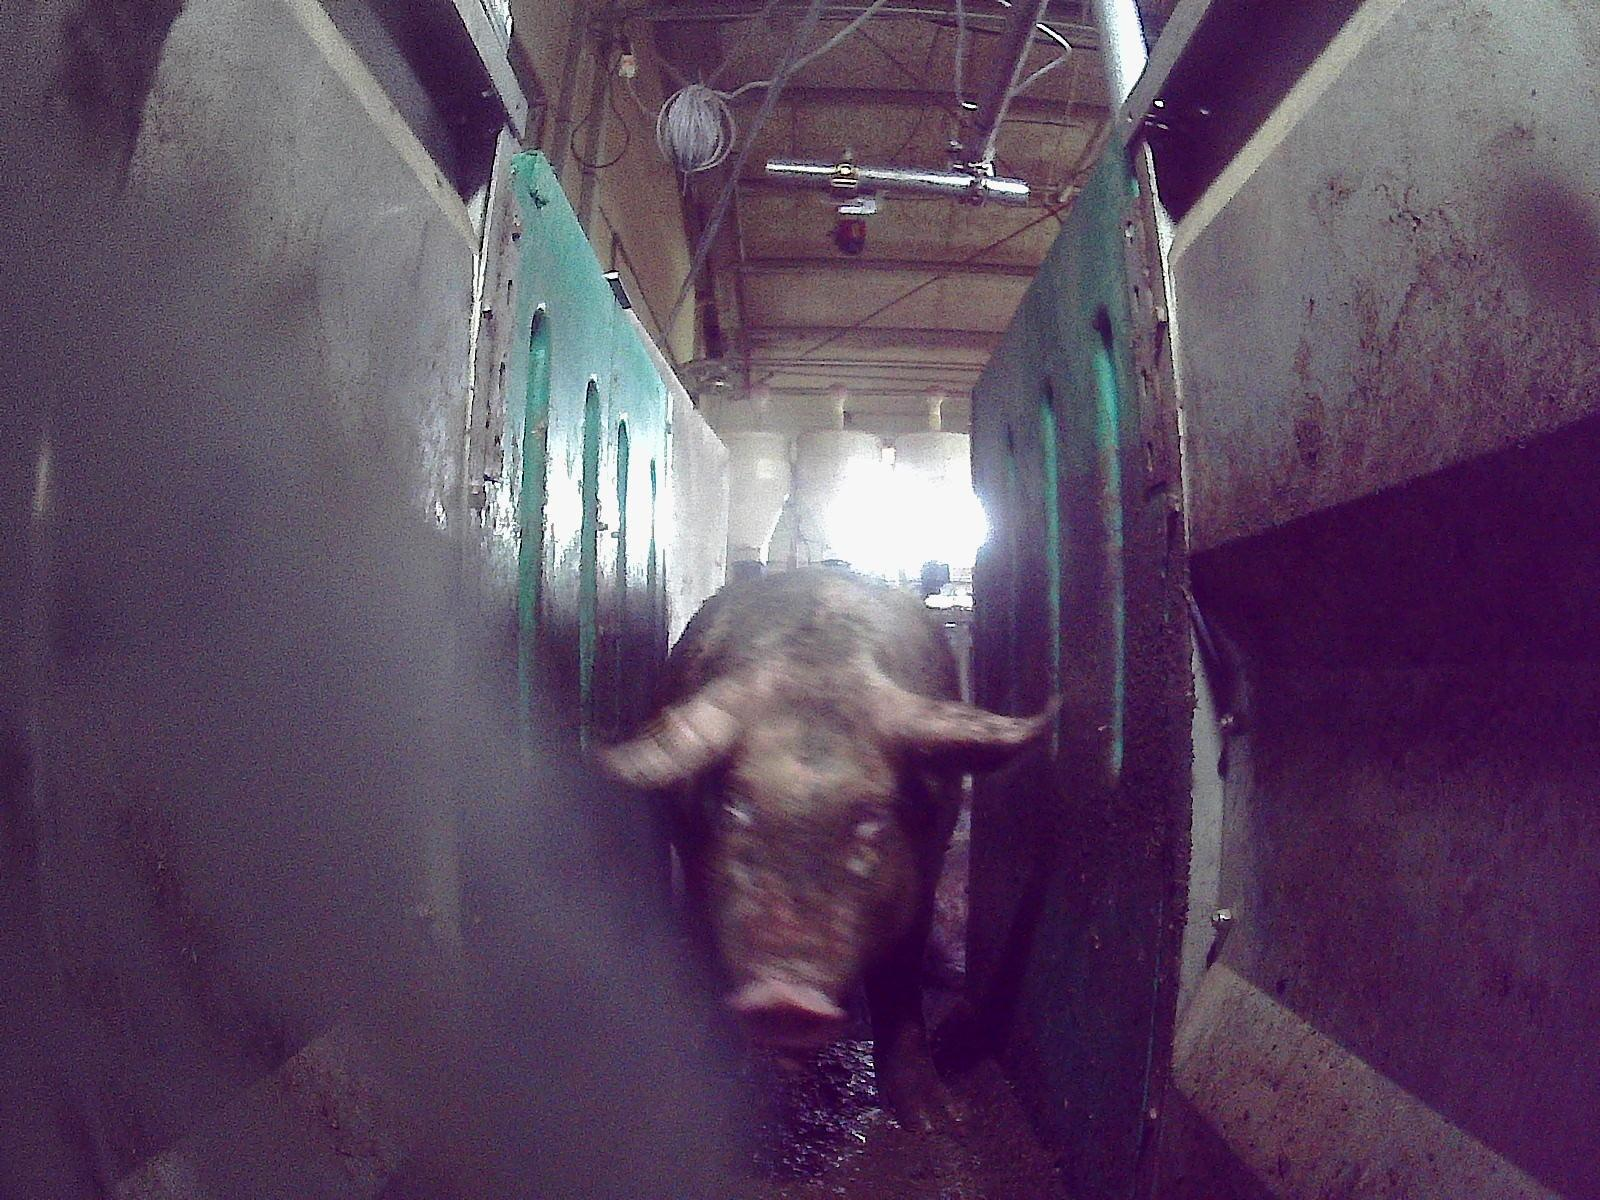Face: (694, 665, 929, 1048)
